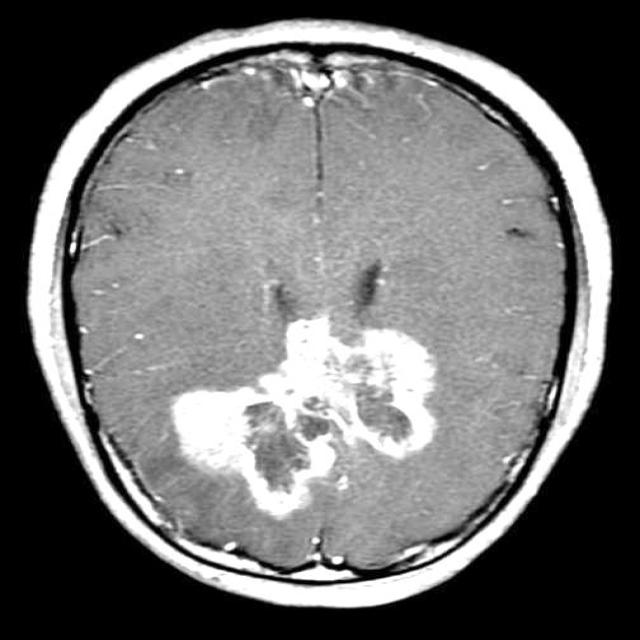Tumor-Cell: (158, 328, 439, 498)
